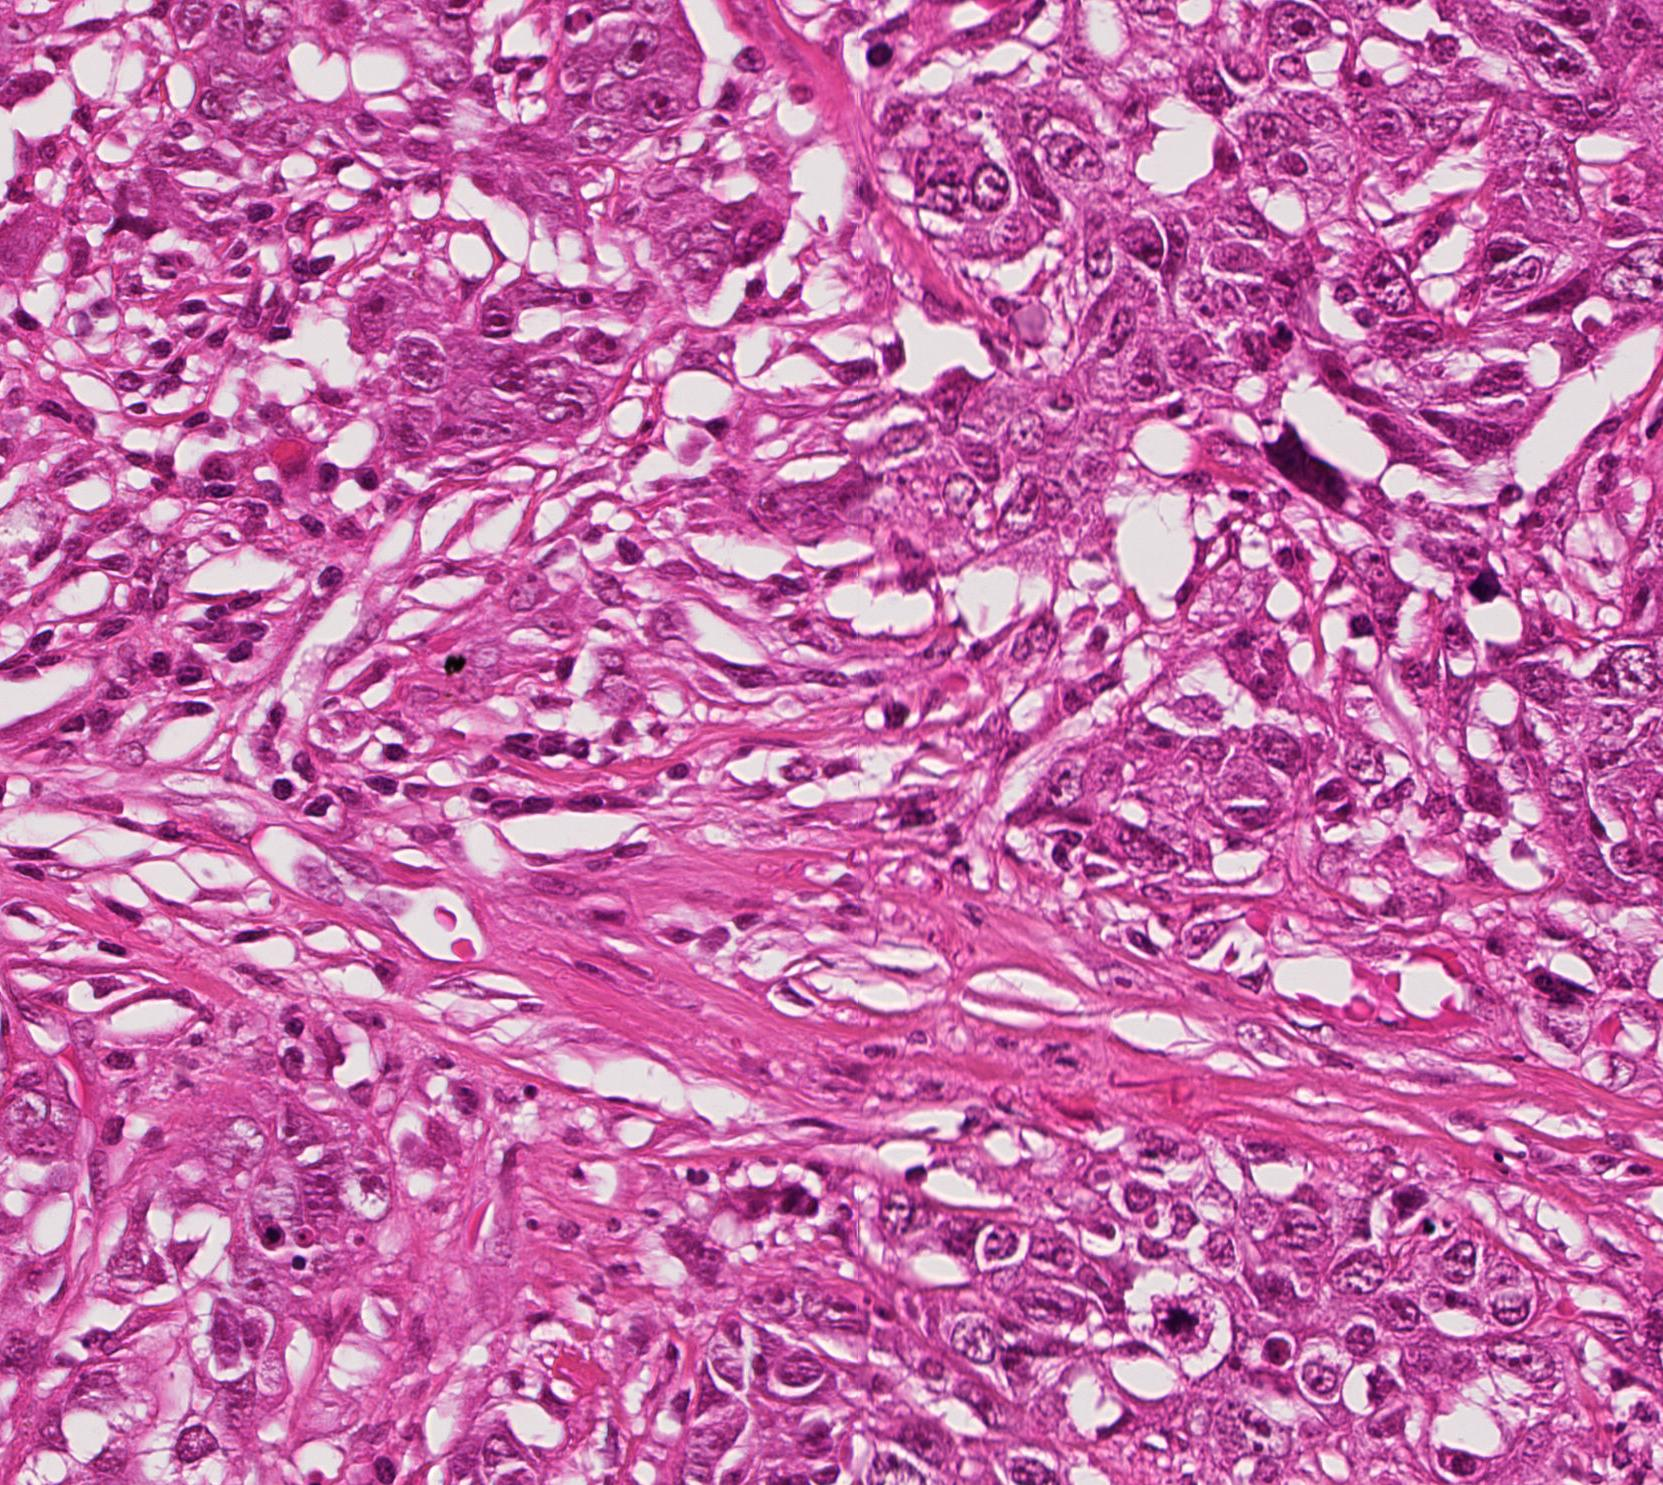mitosis: (1148, 1291, 1209, 1352)
